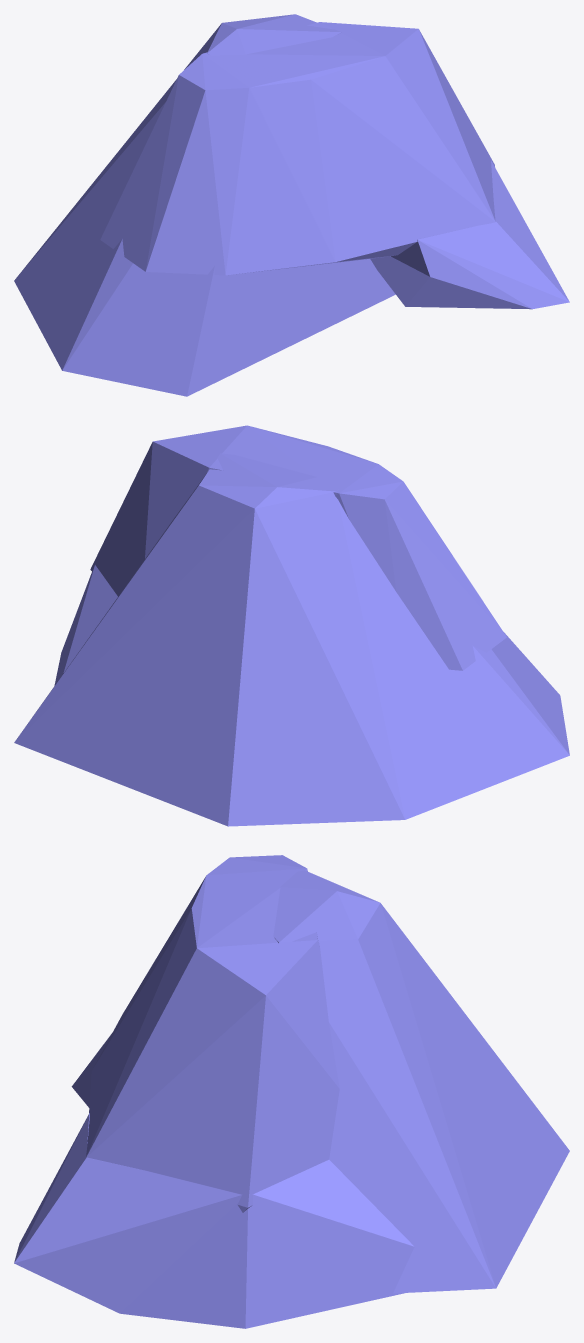
The model's file is Cliff_Block_01_Taper_Collider_01.FBX.
3 views of the same model, one above another, from view 1: azimuth 30°, elevation 25°; view 2: azimuth 150°, elevation 25°; view 3: azimuth 270°, elevation 25° (orthographic). The views are drawn at different scales.
Visible parts, largest first — view 1: COLLIDER1, COLLIDER3, COLLIDER2; view 2: COLLIDER3, COLLIDER1, COLLIDER2; view 3: COLLIDER3, COLLIDER1, COLLIDER2.
Part boxes in pixels (x1,y1,x2,y2): COLLIDER1: (100,22,495,275); COLLIDER3: (14,14,395,396); COLLIDER2: (370,160,569,309); COLLIDER3: (14,453,569,826); COLLIDER1: (90,425,506,670); COLLIDER2: (54,565,117,685); COLLIDER3: (71,870,569,1293); COLLIDER1: (86,855,339,1212); COLLIDER2: (14,1113,414,1328).
Size of the model in its own units: 291 by 147 by 249.
